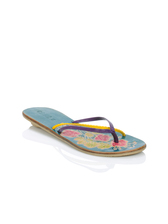shoes: (21, 103, 150, 160)
